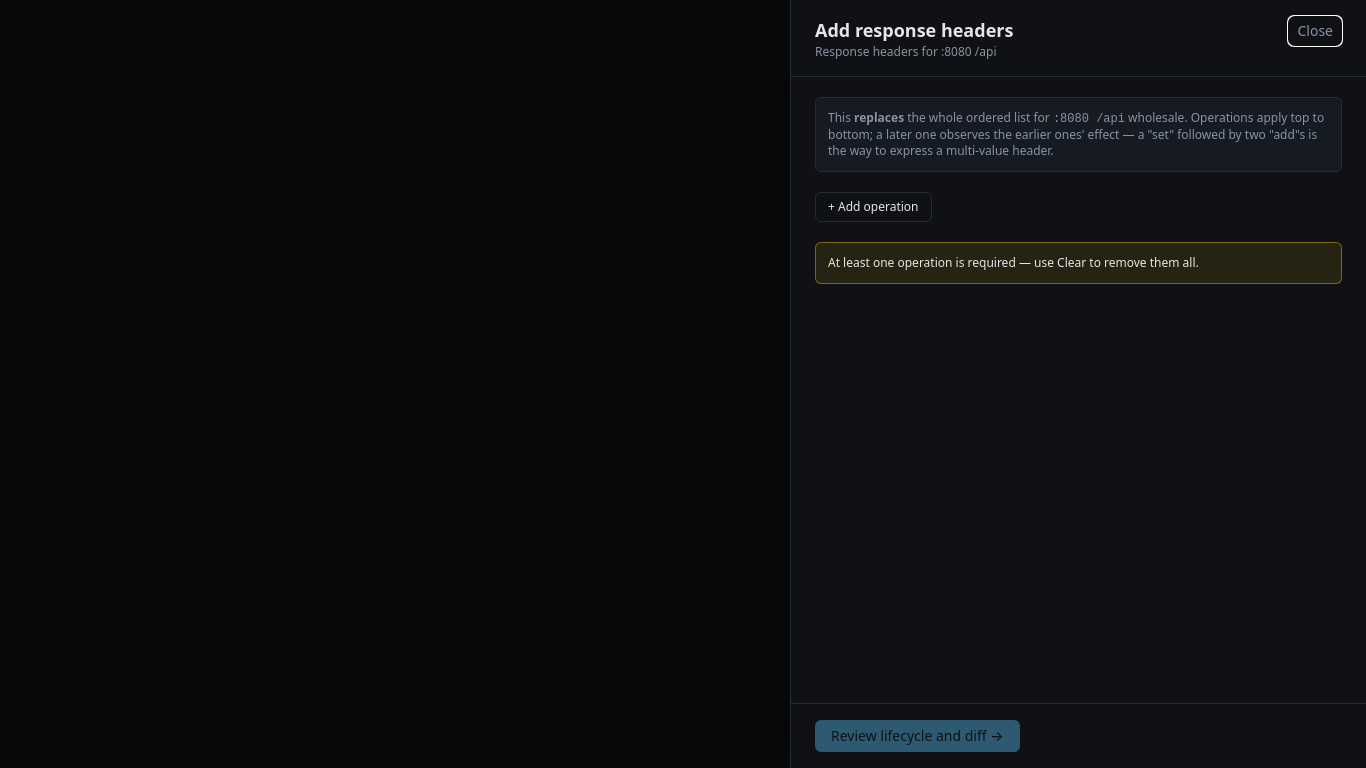
Test: ResponseHeadersEditor › blocks save when a row is missing a name
Click the button "+ Add operation".
click(873, 207)  # box [815,192,932,222]
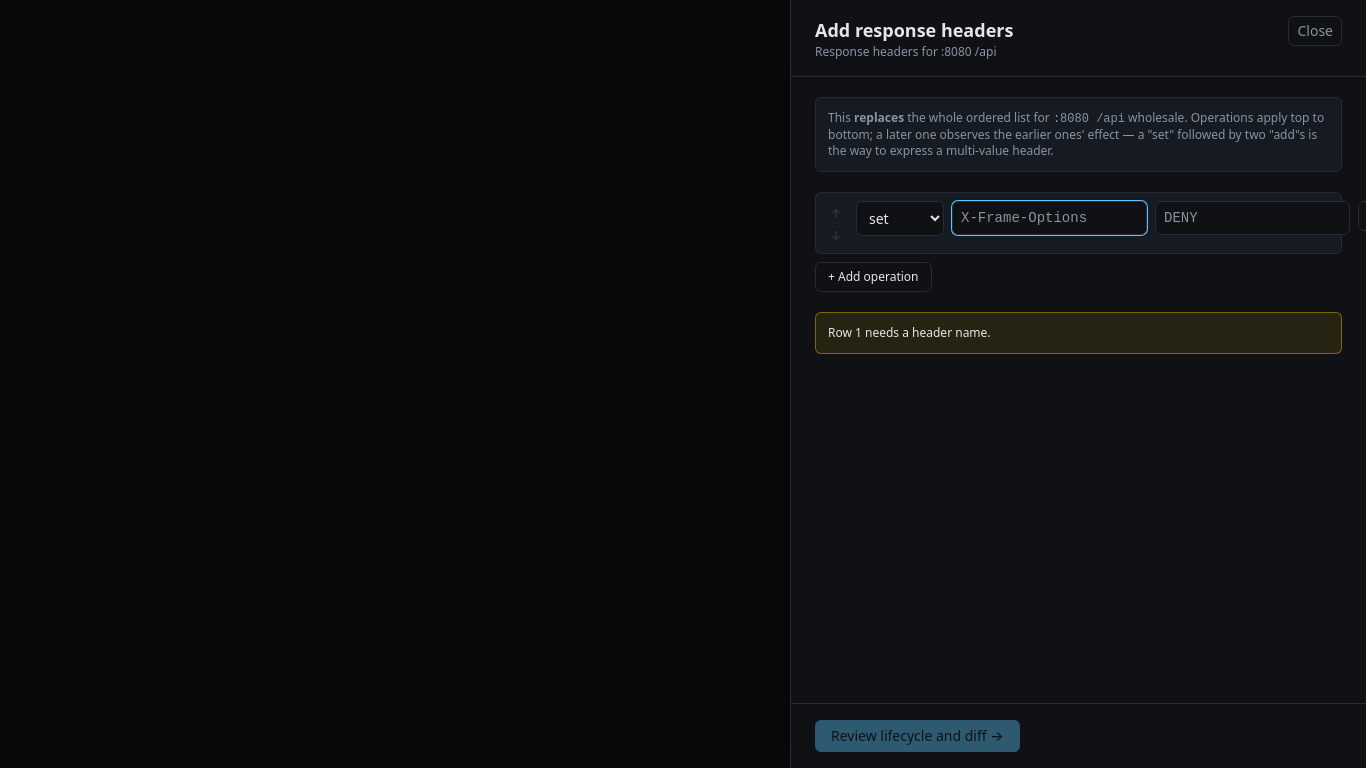
Check: the button "Review lifecycle and diff →" is disabled, box [815,720,1020,752]
Check: the text "Row 1 needs a header name." is shown, box [828,324,991,341]
